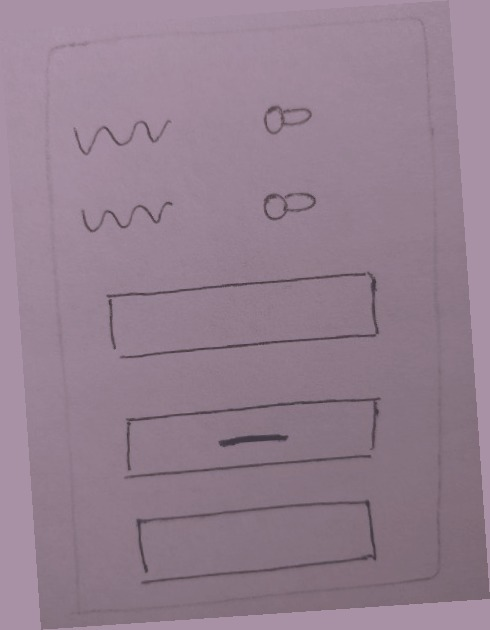button: (110, 386, 393, 489)
switch: (250, 181, 324, 228), (250, 94, 318, 140)
text: (63, 109, 181, 168), (76, 190, 183, 251)
text_input: (97, 266, 387, 367), (120, 491, 389, 591)
